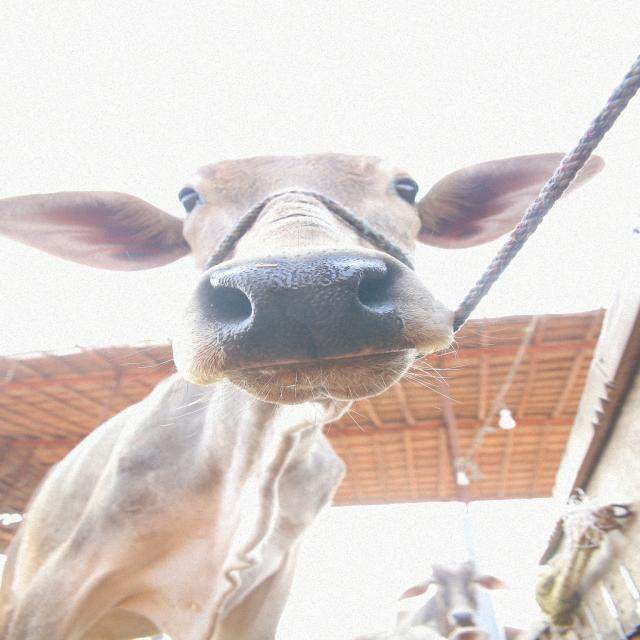muzzles: (184, 247, 423, 380)
